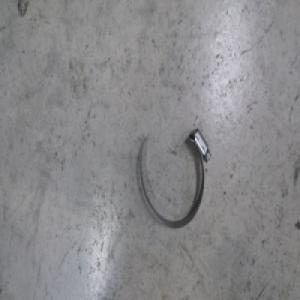AdjustableClamp: (136, 125, 212, 233)
